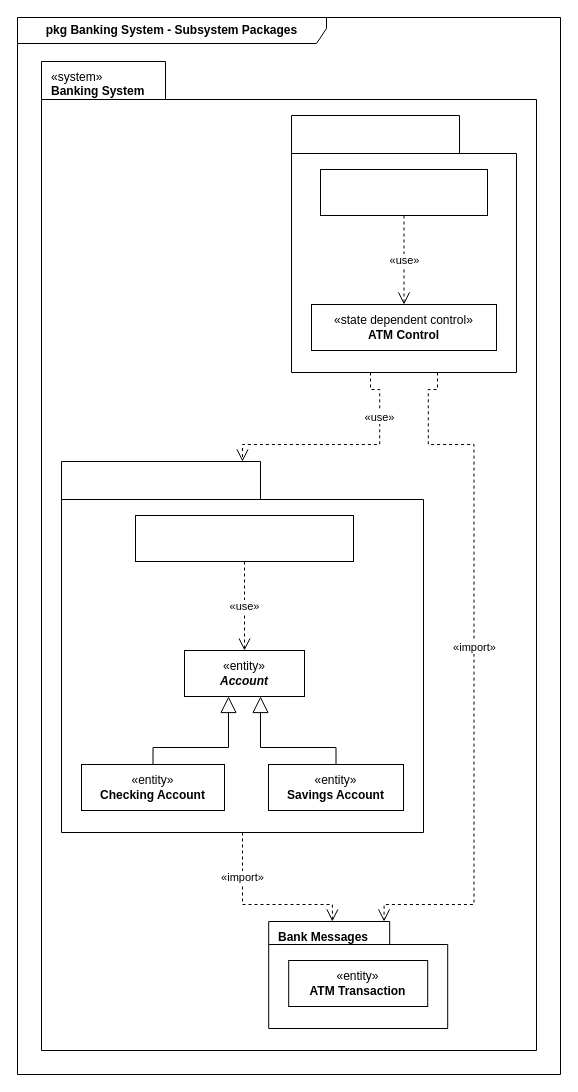
The diagram is 578 pixels wide and 1092 high, and some of its shapes have lost their labels. The shapes that lost their labels are listed below. From the top down, each one's box as (x1, y1, x2, y2) in pixels, then its label:
(320, 168, 488, 216): «input» Card Reader Interface
(290, 114, 516, 372): «subsystem» ATM Client Subsystem
(134, 514, 354, 562): «coordinator» Bank Transaction Coordinator
(60, 460, 424, 832): «subsystem» Banking Service Subsystem
